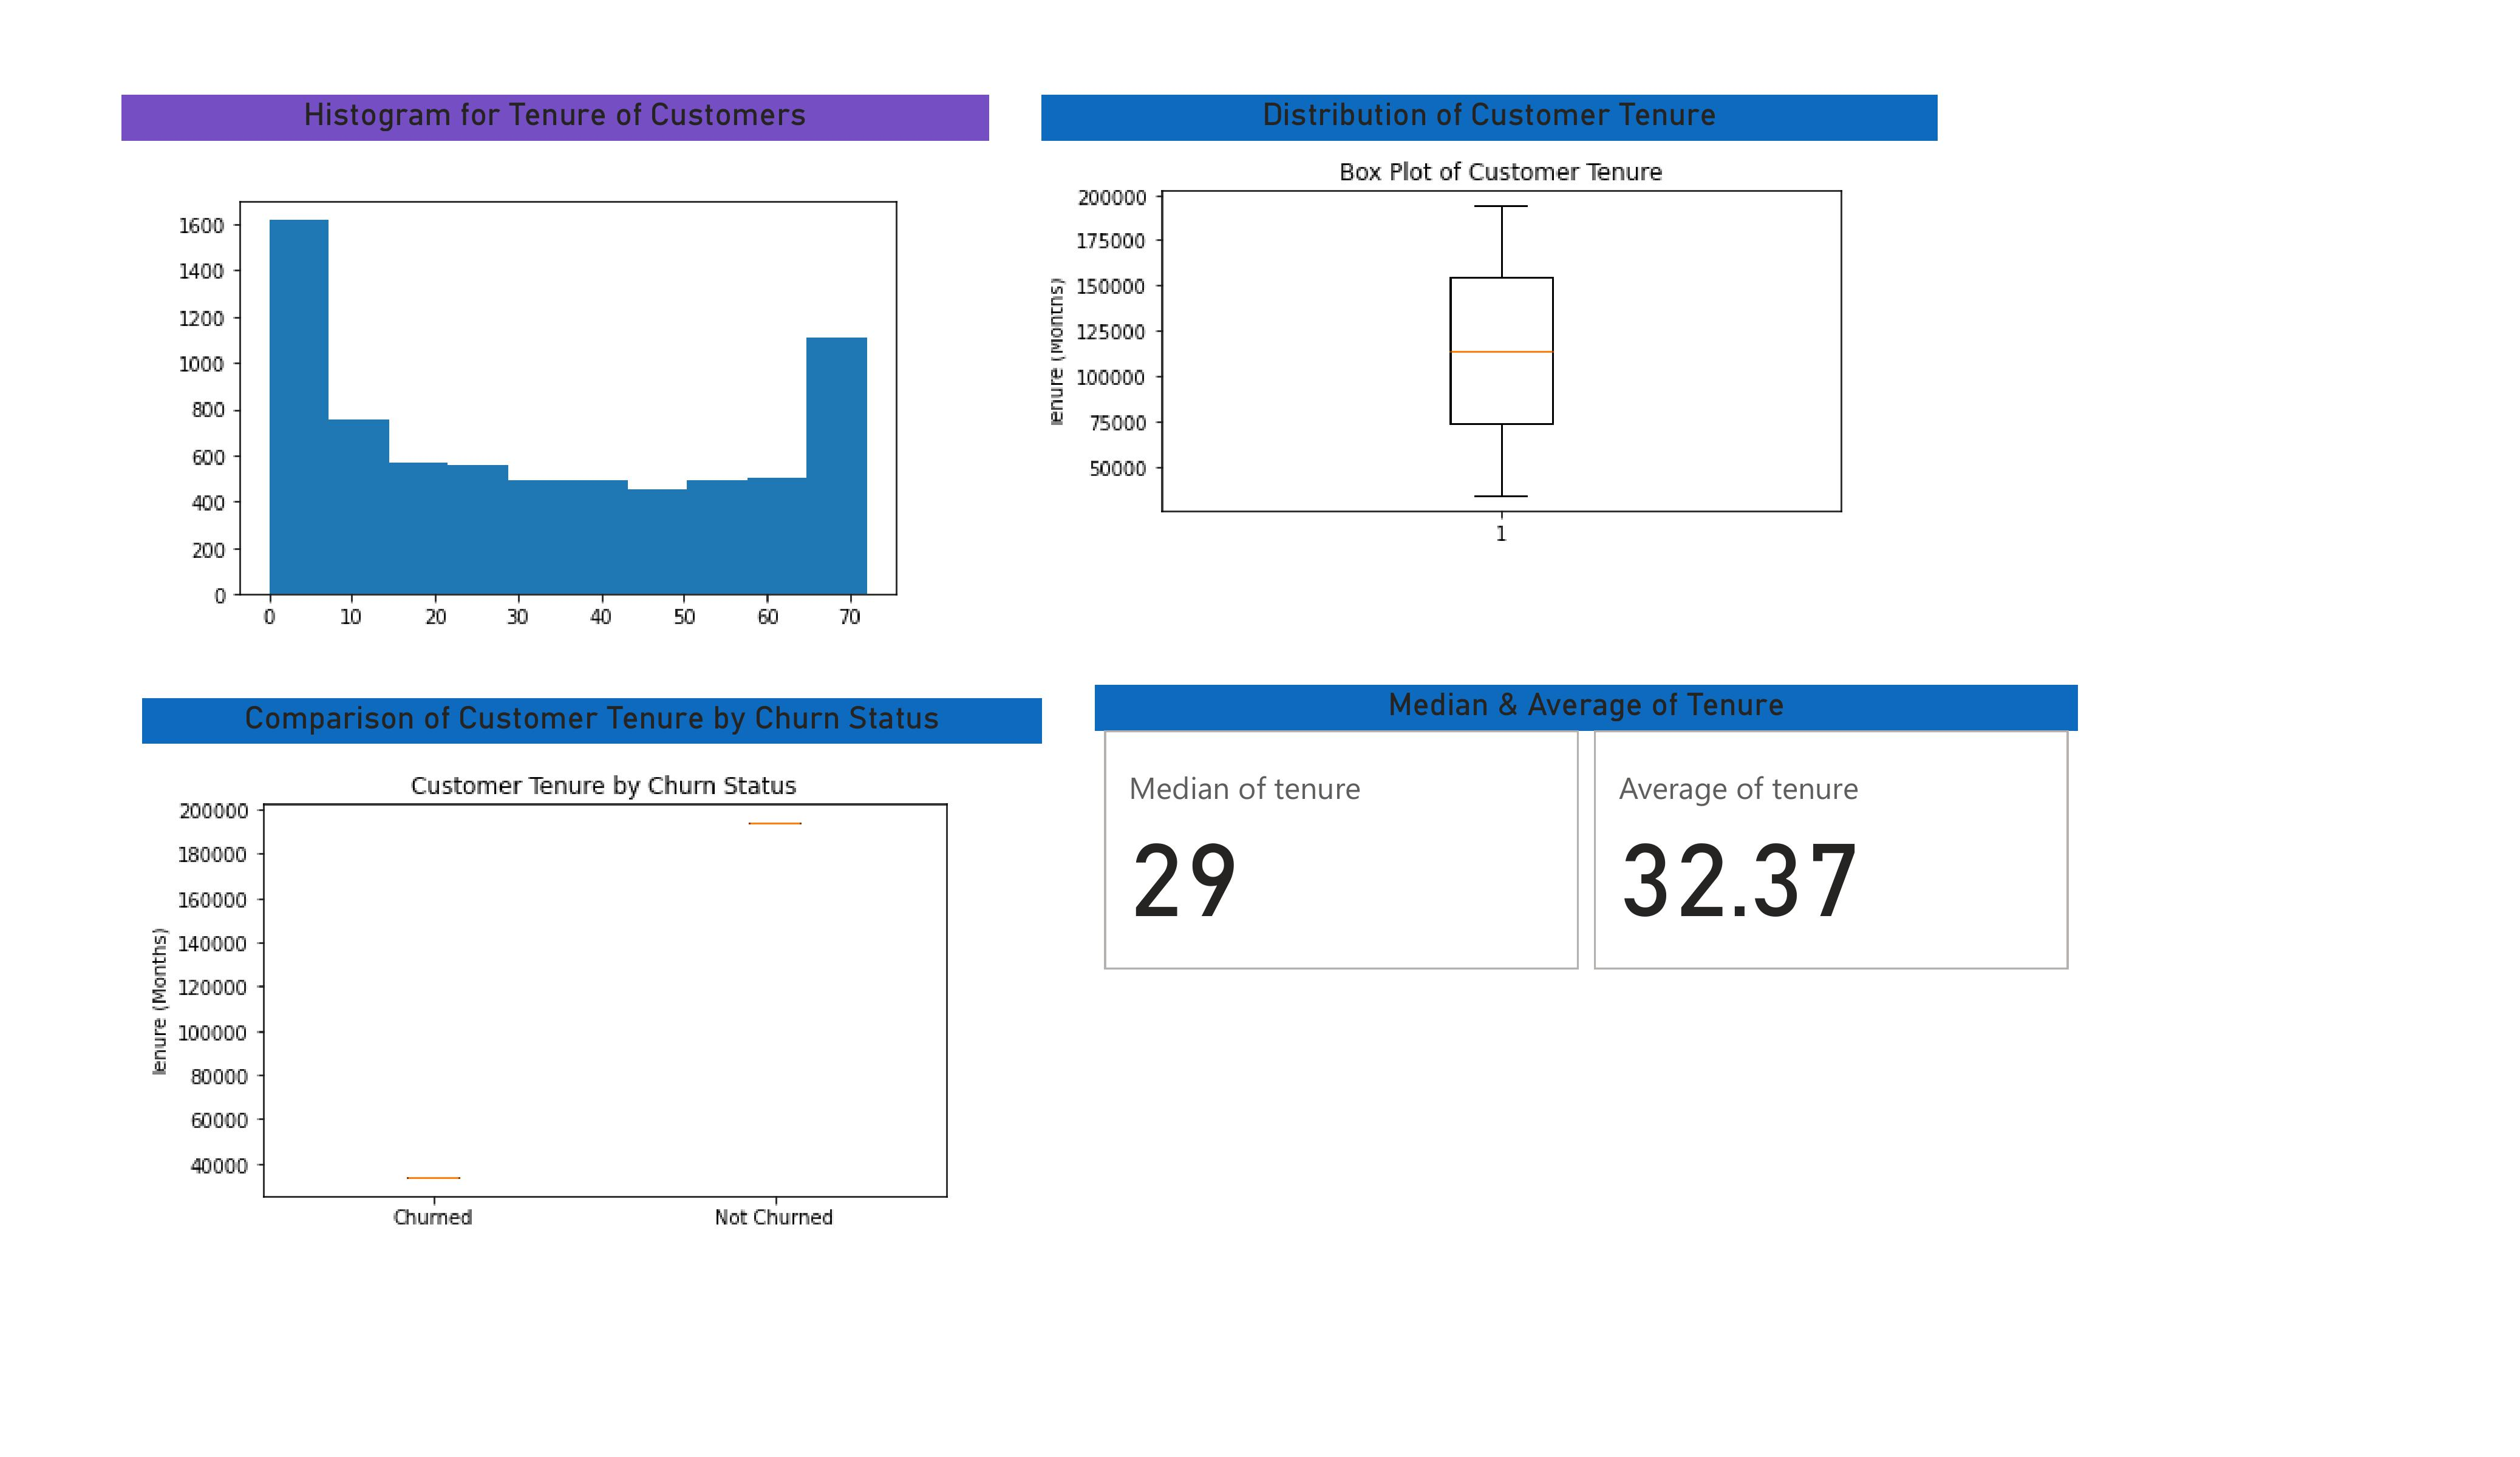

The dashboard page shown, as its layout file describes it:
{"tool":"powerbi","page":{"name":"Task3","canvas":[1280,720],"ordinal":2},"visuals":[{"type":"pythonVisual","title":"Histogram for Tenure of Customers","fields":{"Values":["Telco_Customer_Churn_Dataset  (2).Customer ID","Sum(Telco_Customer_Churn_Dataset  (2).tenure)"]},"box":[39.7,26.5,457.4,297.1],"z":0},{"type":"pythonVisual","title":"Distribution of Customer Tenure","fields":{"Values":["Sum(Telco_Customer_Churn_Dataset  (2).tenure)","Telco_Customer_Churn_Dataset  (2).Churn"]},"box":[525,26.5,472.1,247.1],"z":1000},{"type":"pythonVisual","title":"Comparison of Customer Tenure by Churn Status","fields":{"Values":["Sum(Telco_Customer_Churn_Dataset  (2).tenure)","Telco_Customer_Churn_Dataset  (2).Churn"]},"box":[51.5,344.1,473.5,297.1],"z":2000},{"type":"cardVisual","title":"Median  & Average of Tenure","fields":{"Data":["Median(Telco_Customer_Churn_Dataset  (2).tenure)","Avg(Telco_Customer_Churn_Dataset  (2).tenure)1"]},"box":[552.9,336.8,517.6,155.9],"z":3000}]}

Visuals, with their boxes in screenshot pixels (x1, y1, x2, y2):
"Histogram for Tenure of Customers" pythonVisual: bbox=[121, 96, 989, 659]
"Distribution of Customer Tenure" pythonVisual: bbox=[1042, 96, 1938, 565]
"Comparison of Customer Tenure by Churn Status" pythonVisual: bbox=[143, 698, 1042, 1262]
"Median  & Average of Tenure" cardVisual: bbox=[1095, 685, 2077, 980]
